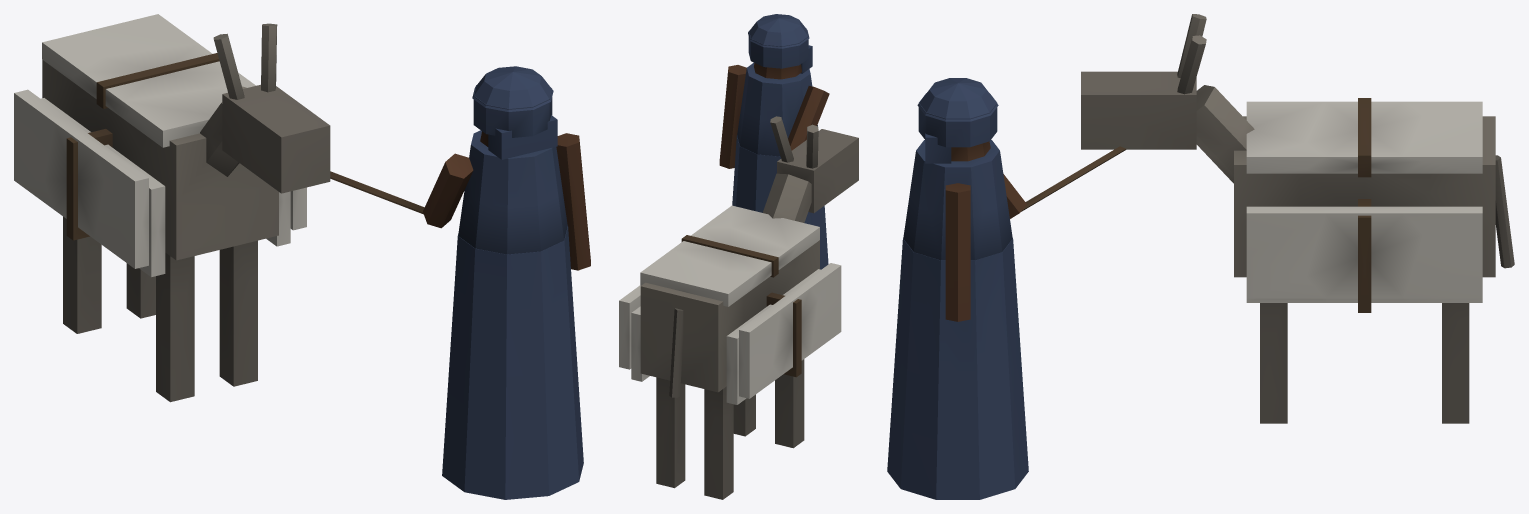
File: mule.glb
3 renders of one model, left to right at view 1: azimuth 30°, elevation 25°; view 2: azimuth 150°, elevation 25°; view 3: azimuth 270°, elevation 25°, orthographic. The views are drawn at different scales.
Parts seen in each view (by area): view 1: base; view 2: base; view 3: base.
Boxes of the visible parts, x1,y1,x2,y2 form: base: (14,14,590,499); base: (619,14,858,499); base: (887,14,1514,499).
Bounding box in the file's own units: 1.34 × 1.63 × 2.39.
